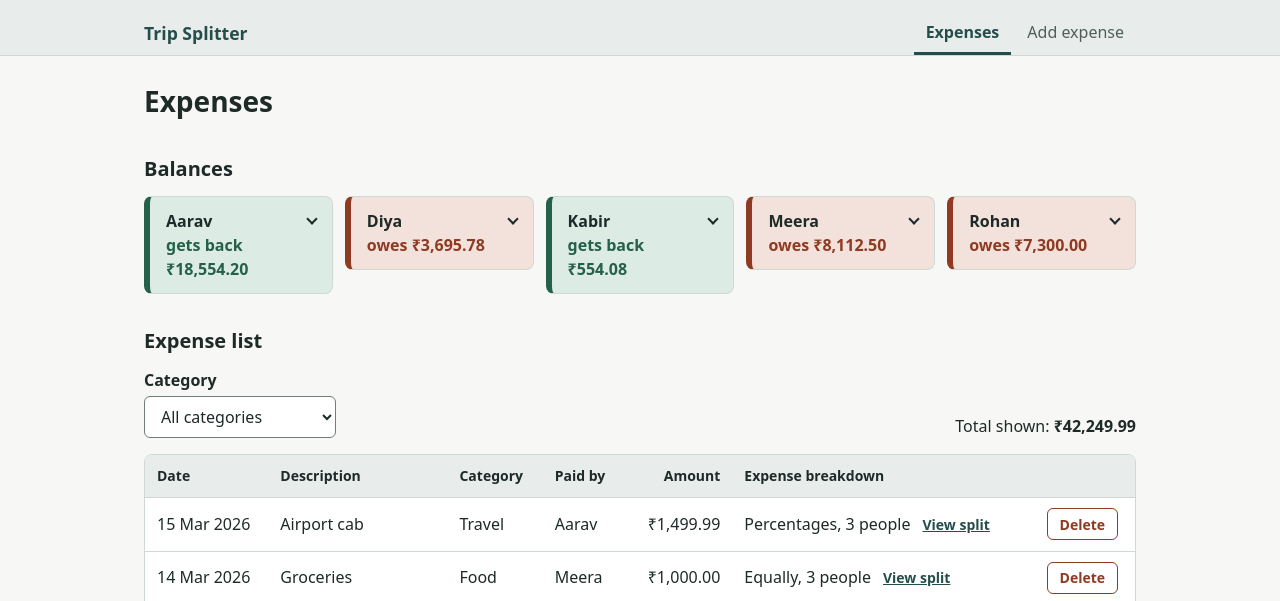
Scenario: Balance cards › open one at a time to show who pays whom, and close again
Click the button "Aarav gets back ₹18,554.20" at (241, 245), box [150,197,332,293]
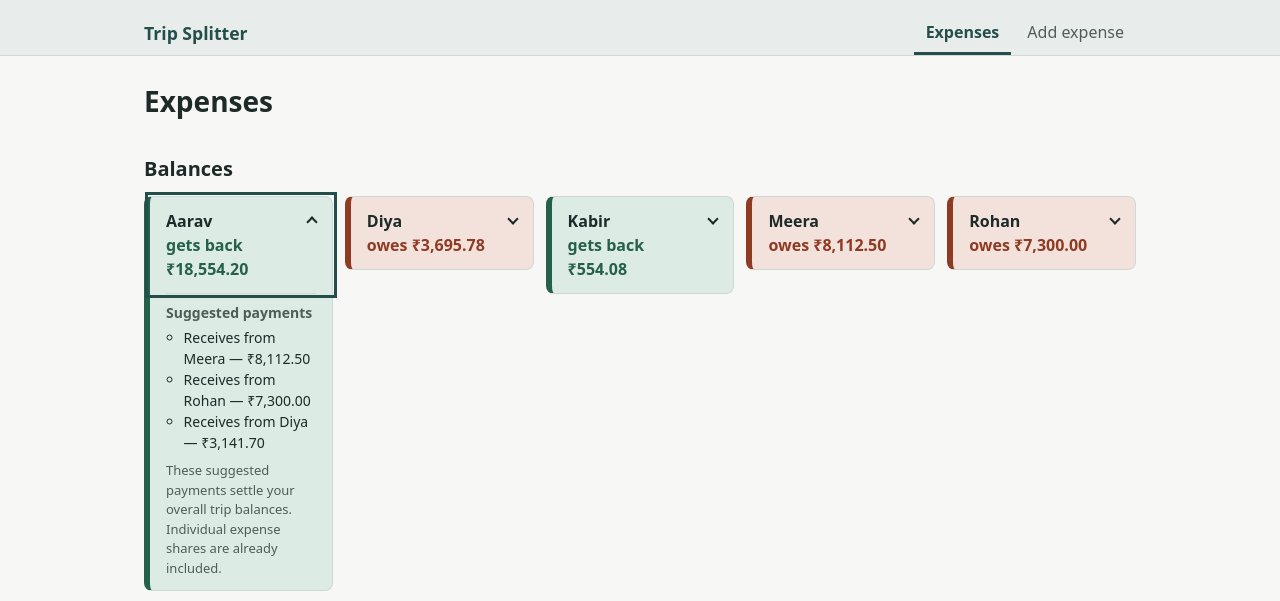
expect the button "Aarav gets back ₹18,554.20" is expanded: met, box [150,197,332,293]
Click the button "Diya owes ₹3,695.78" at (442, 233), box [351,197,533,269]
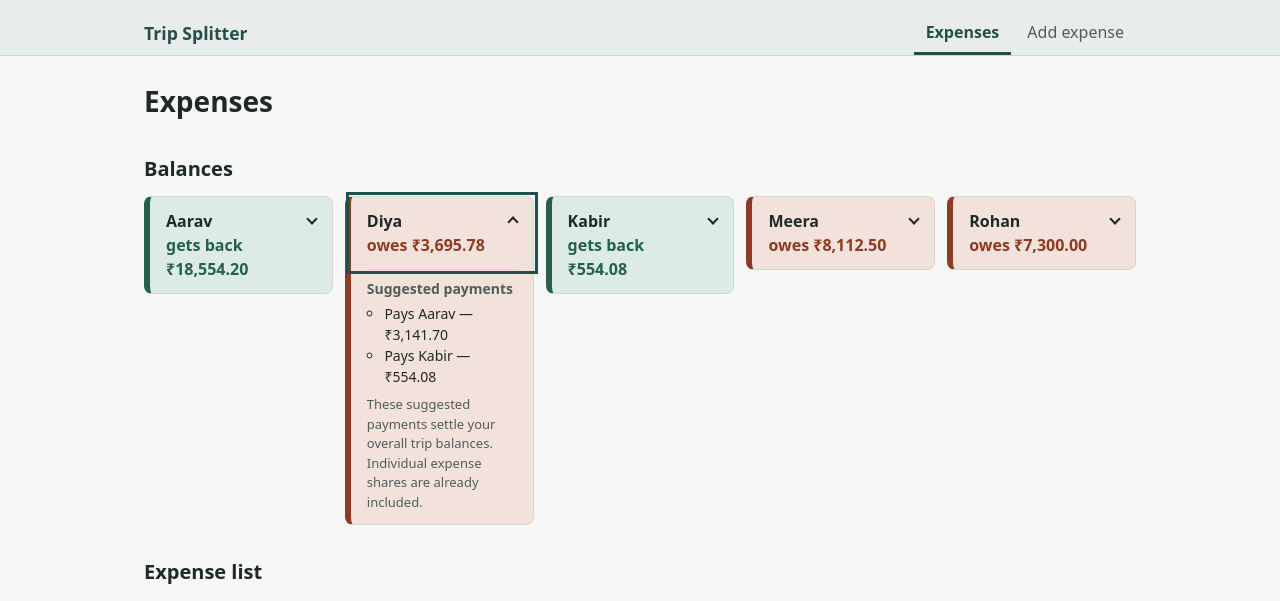
expect the button "Aarav gets back ₹18,554.20" is collapsed: met, box [150,197,332,293]
expect the button "Diya owes ₹3,695.78" is expanded: met
Click the button "Diya owes ₹3,695.78" at (442, 233), box [351,197,533,269]
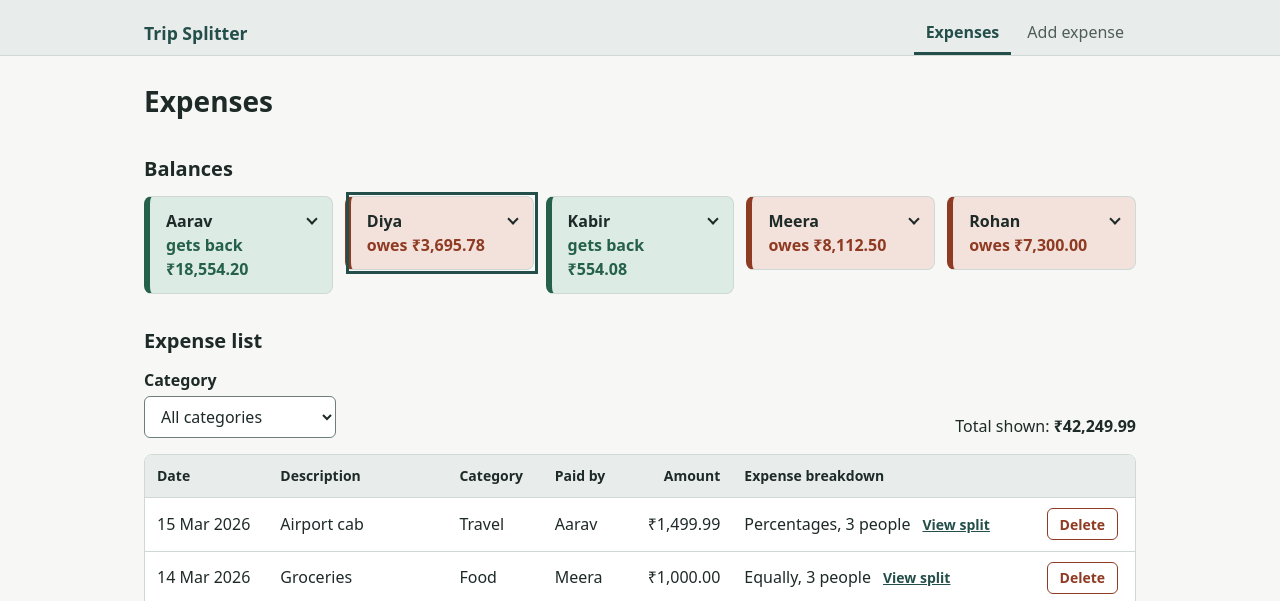
expect the button "Diya owes ₹3,695.78" is collapsed: met, box [351,197,533,269]
expect the list item "Pays Aarav" is gone: met
